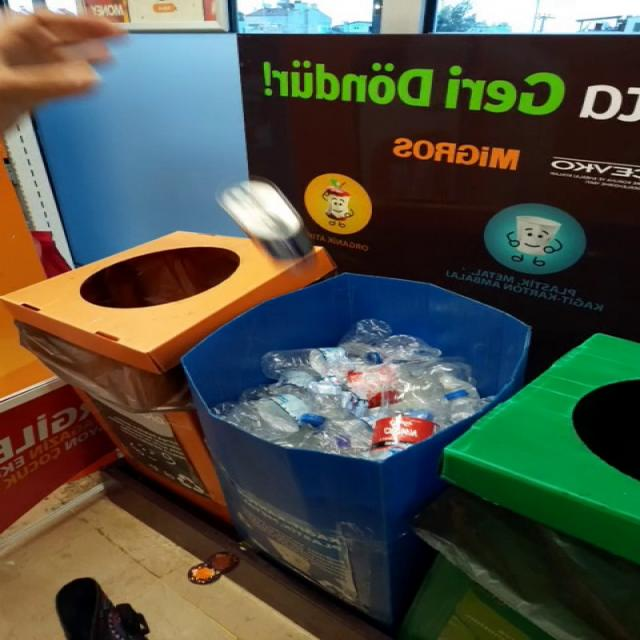metal: (216, 178, 312, 259)
